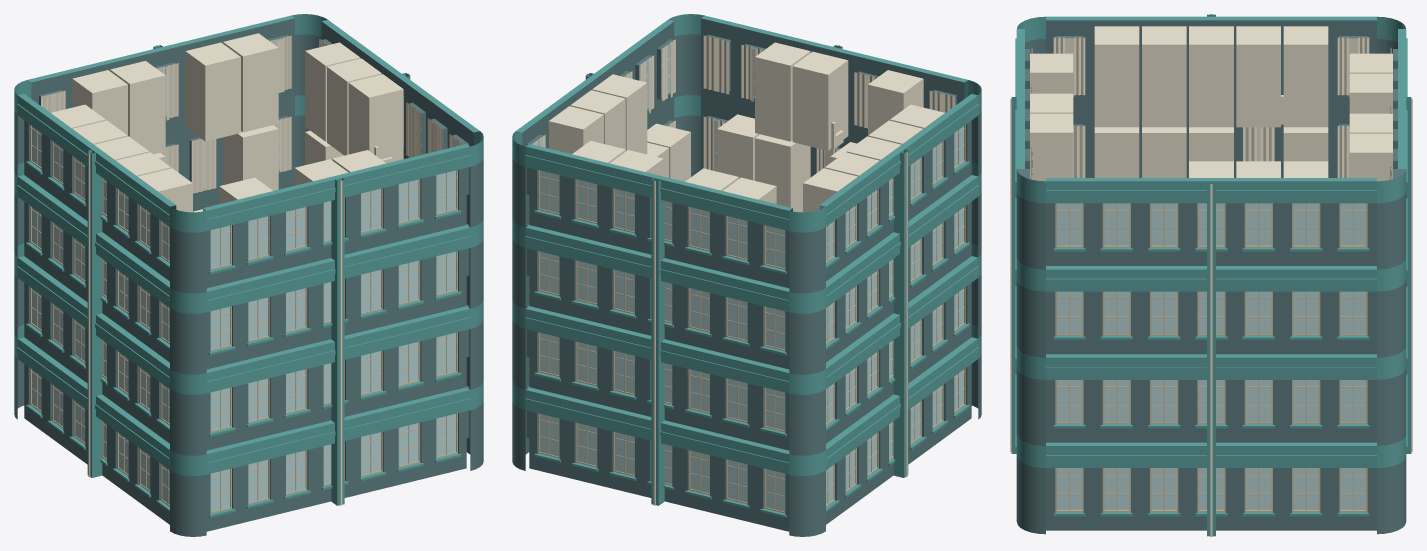
The model's file is KC32__AD_Ext_Bldg_Mid_Ribbon_Blue.glb.
The picture shows the model from 3 angles, left to right: view 1: azimuth 30°, elevation 25°; view 2: azimuth 150°, elevation 25°; view 3: azimuth 270°, elevation 25°; orthographic projection. The views are drawn at different scales.
Visible parts, largest first — view 1: KC32_CORPS__AD_Ext_Bldg_Mid_Ribbon_Blue, KC32_LUMIERE__AD_Ext_Bldg_Mid_Ribbon_Blue, KC32_VITRAGE__AD_Ext_Bldg_Mid_Ribbon_Blue, KC32_BRONZE__AD_Ext_Bldg_Mid_Ribbon_Blue; view 2: KC32_CORPS__AD_Ext_Bldg_Mid_Ribbon_Blue, KC32_LUMIERE__AD_Ext_Bldg_Mid_Ribbon_Blue, KC32_VITRAGE__AD_Ext_Bldg_Mid_Ribbon_Blue, KC32_BRONZE__AD_Ext_Bldg_Mid_Ribbon_Blue; view 3: KC32_CORPS__AD_Ext_Bldg_Mid_Ribbon_Blue, KC32_LUMIERE__AD_Ext_Bldg_Mid_Ribbon_Blue, KC32_VITRAGE__AD_Ext_Bldg_Mid_Ribbon_Blue, KC32_BRONZE__AD_Ext_Bldg_Mid_Ribbon_Blue.
Part boxes in pixels (x1,y1,x2,y2): KC32_CORPS__AD_Ext_Bldg_Mid_Ribbon_Blue: [14, 14, 483, 536]; KC32_LUMIERE__AD_Ext_Bldg_Mid_Ribbon_Blue: [41, 33, 463, 505]; KC32_VITRAGE__AD_Ext_Bldg_Mid_Ribbon_Blue: [32, 38, 457, 511]; KC32_BRONZE__AD_Ext_Bldg_Mid_Ribbon_Blue: [30, 38, 460, 513]; KC32_CORPS__AD_Ext_Bldg_Mid_Ribbon_Blue: [512, 14, 981, 536]; KC32_LUMIERE__AD_Ext_Bldg_Mid_Ribbon_Blue: [532, 35, 955, 505]; KC32_VITRAGE__AD_Ext_Bldg_Mid_Ribbon_Blue: [534, 43, 963, 511]; KC32_BRONZE__AD_Ext_Bldg_Mid_Ribbon_Blue: [538, 43, 965, 513]; KC32_CORPS__AD_Ext_Bldg_Mid_Ribbon_Blue: [1011, 14, 1411, 536]; KC32_LUMIERE__AD_Ext_Bldg_Mid_Ribbon_Blue: [1010, 14, 1412, 536]; KC32_VITRAGE__AD_Ext_Bldg_Mid_Ribbon_Blue: [1057, 38, 1365, 510]; KC32_BRONZE__AD_Ext_Bldg_Mid_Ribbon_Blue: [1055, 38, 1367, 512].
Size of the model in its own units: 12.4 by 12 by 12.4.
